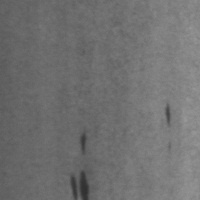inclusion: (67, 166, 94, 200), (160, 98, 177, 133), (76, 128, 92, 157)
